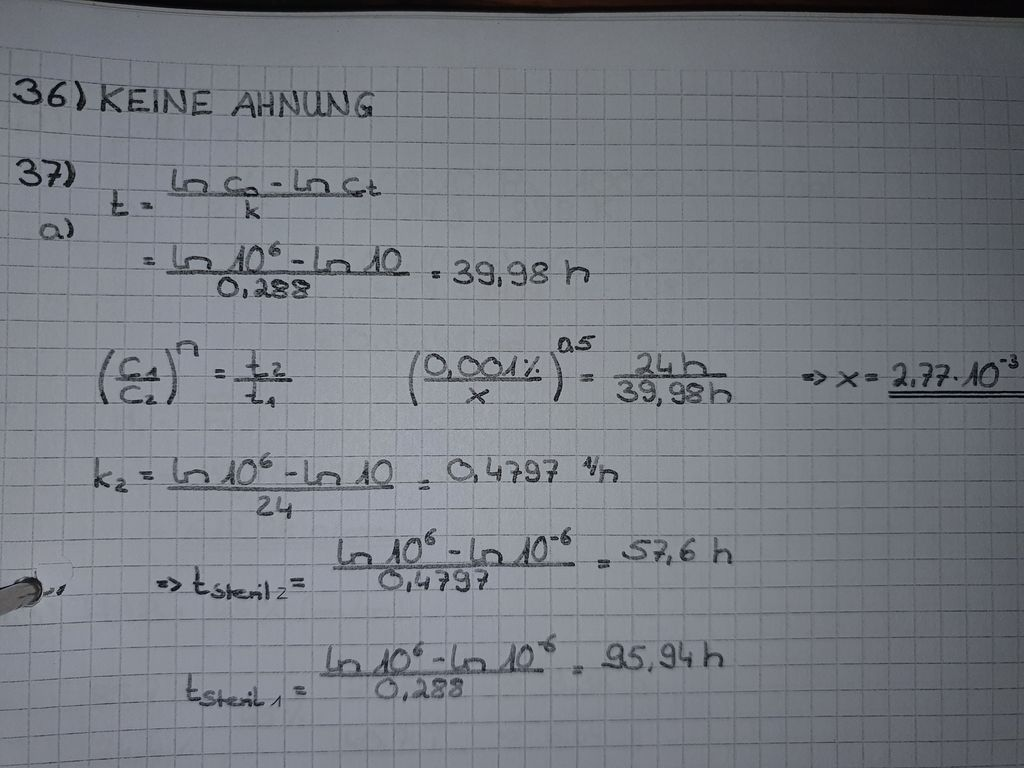equals: (589, 546, 619, 585), (284, 567, 318, 600), (284, 675, 316, 704), (567, 657, 593, 688), (415, 470, 439, 503), (133, 247, 160, 274), (133, 461, 160, 488), (573, 366, 604, 388), (134, 190, 159, 217), (207, 363, 235, 387), (856, 367, 885, 389), (422, 262, 447, 282)
equation: (172, 622, 750, 711), (184, 520, 755, 609), (83, 438, 638, 522), (130, 231, 604, 300), (404, 327, 739, 411), (100, 155, 392, 219), (91, 339, 303, 412), (832, 338, 1021, 405)
fraction: (329, 518, 580, 594), (175, 441, 399, 519), (393, 327, 589, 416), (318, 632, 565, 701), (166, 237, 411, 303), (166, 168, 380, 218), (95, 334, 200, 420), (613, 345, 733, 420), (235, 341, 296, 423)
separator: (439, 542, 466, 564), (286, 252, 311, 272), (429, 649, 451, 671), (280, 465, 303, 484), (267, 179, 286, 194)
term: (442, 447, 622, 495), (885, 346, 1022, 397), (596, 628, 732, 676), (445, 248, 593, 292), (618, 528, 747, 568), (182, 664, 288, 710), (189, 558, 286, 600), (90, 452, 130, 499), (107, 181, 133, 221), (832, 355, 859, 390)
